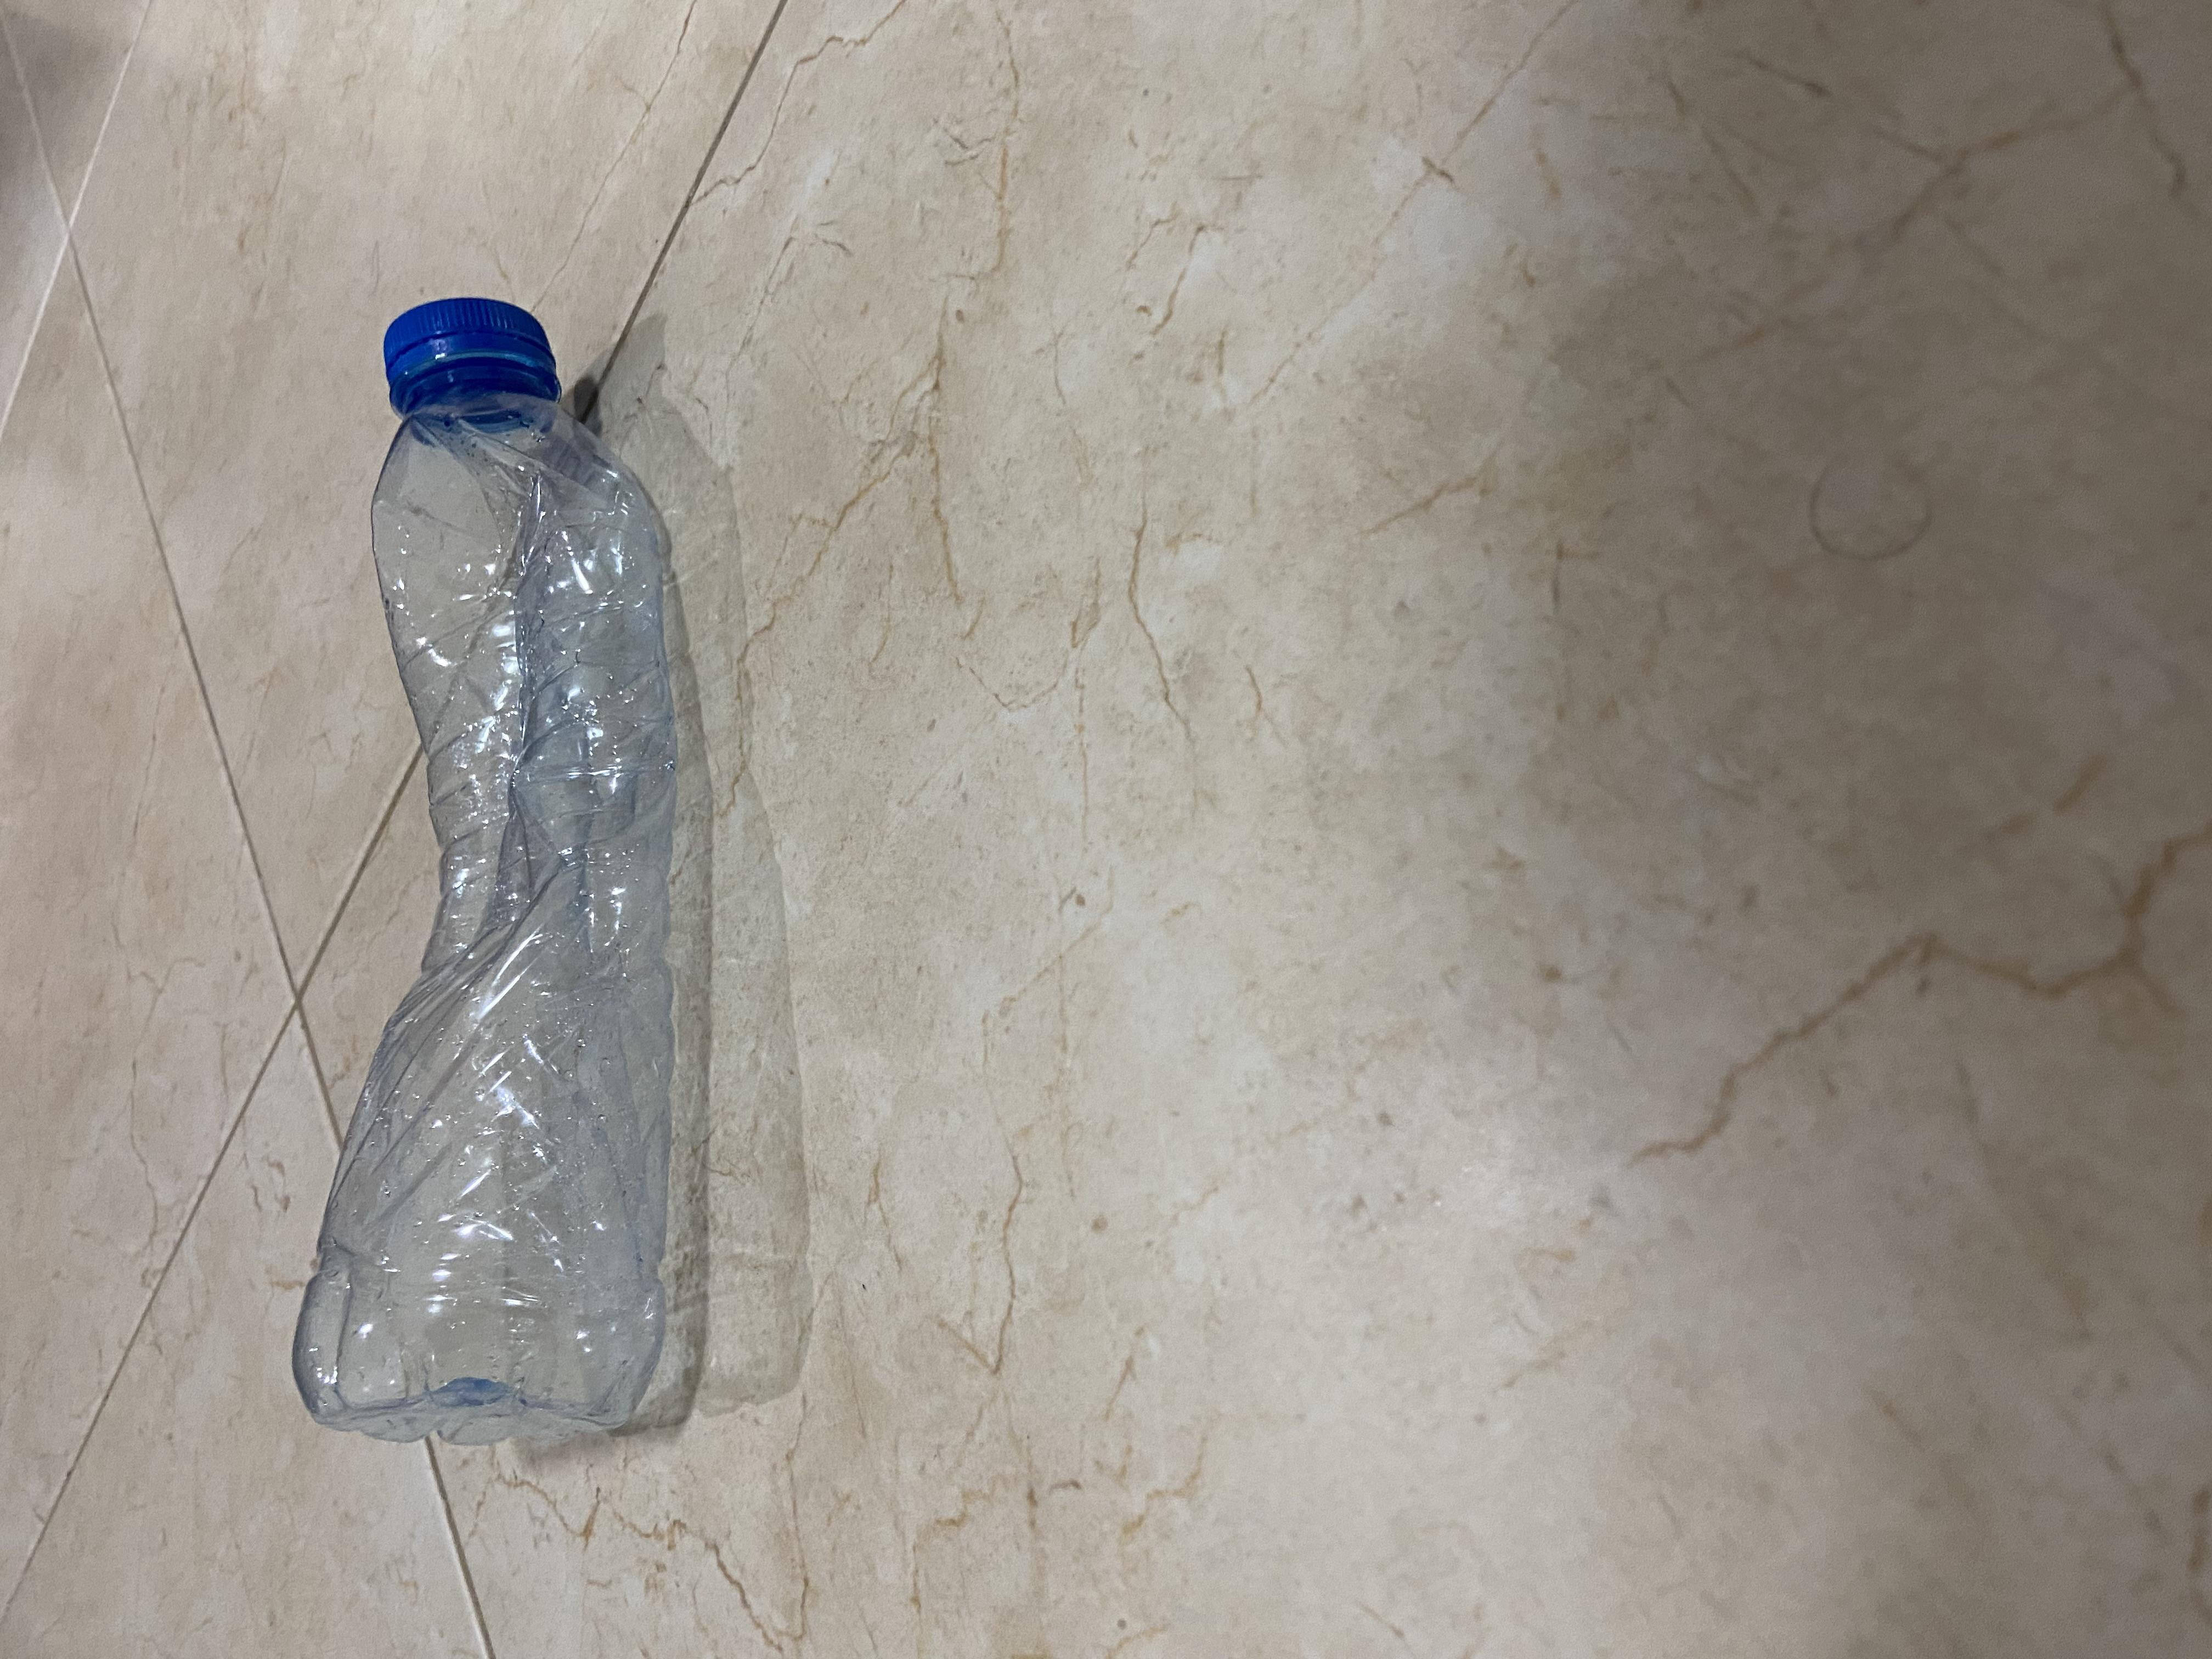bottle: (197, 202, 1883, 556)
